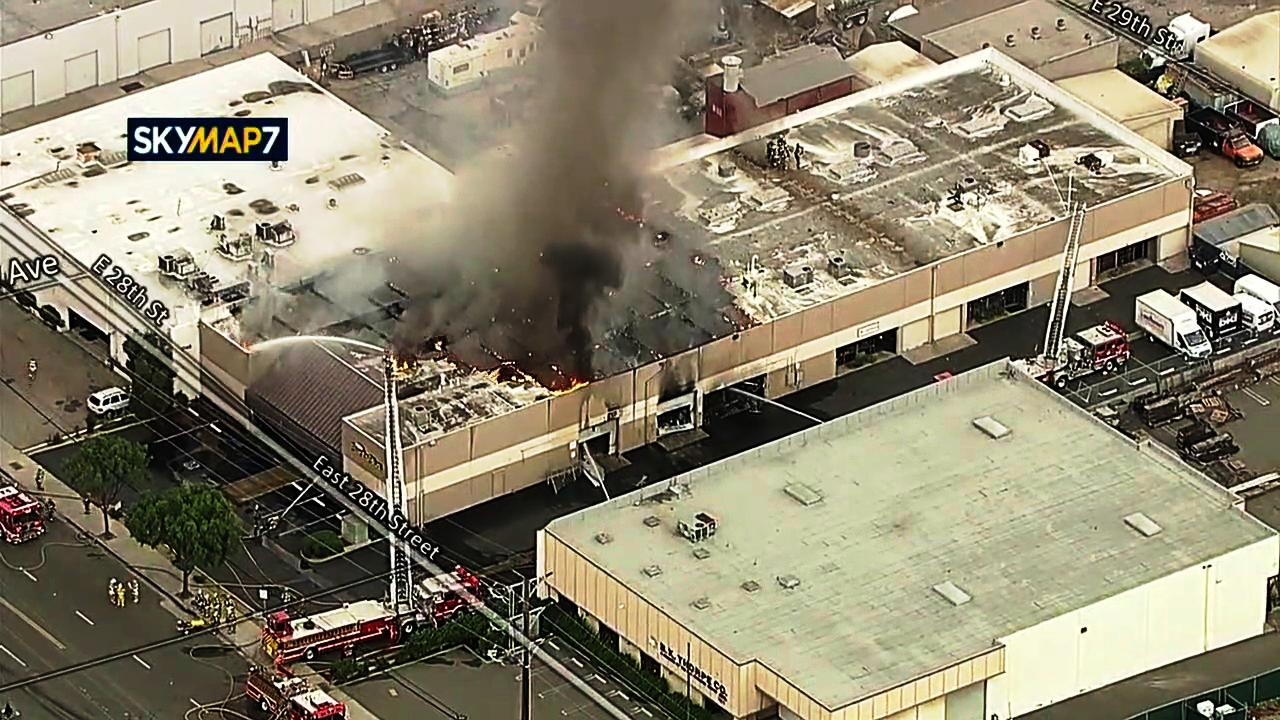smoke: (509, 9, 645, 315)
